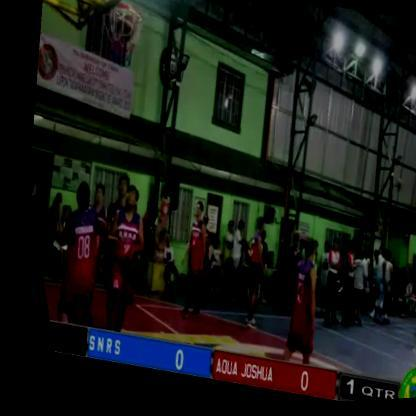rim: (86, 0, 153, 66)
